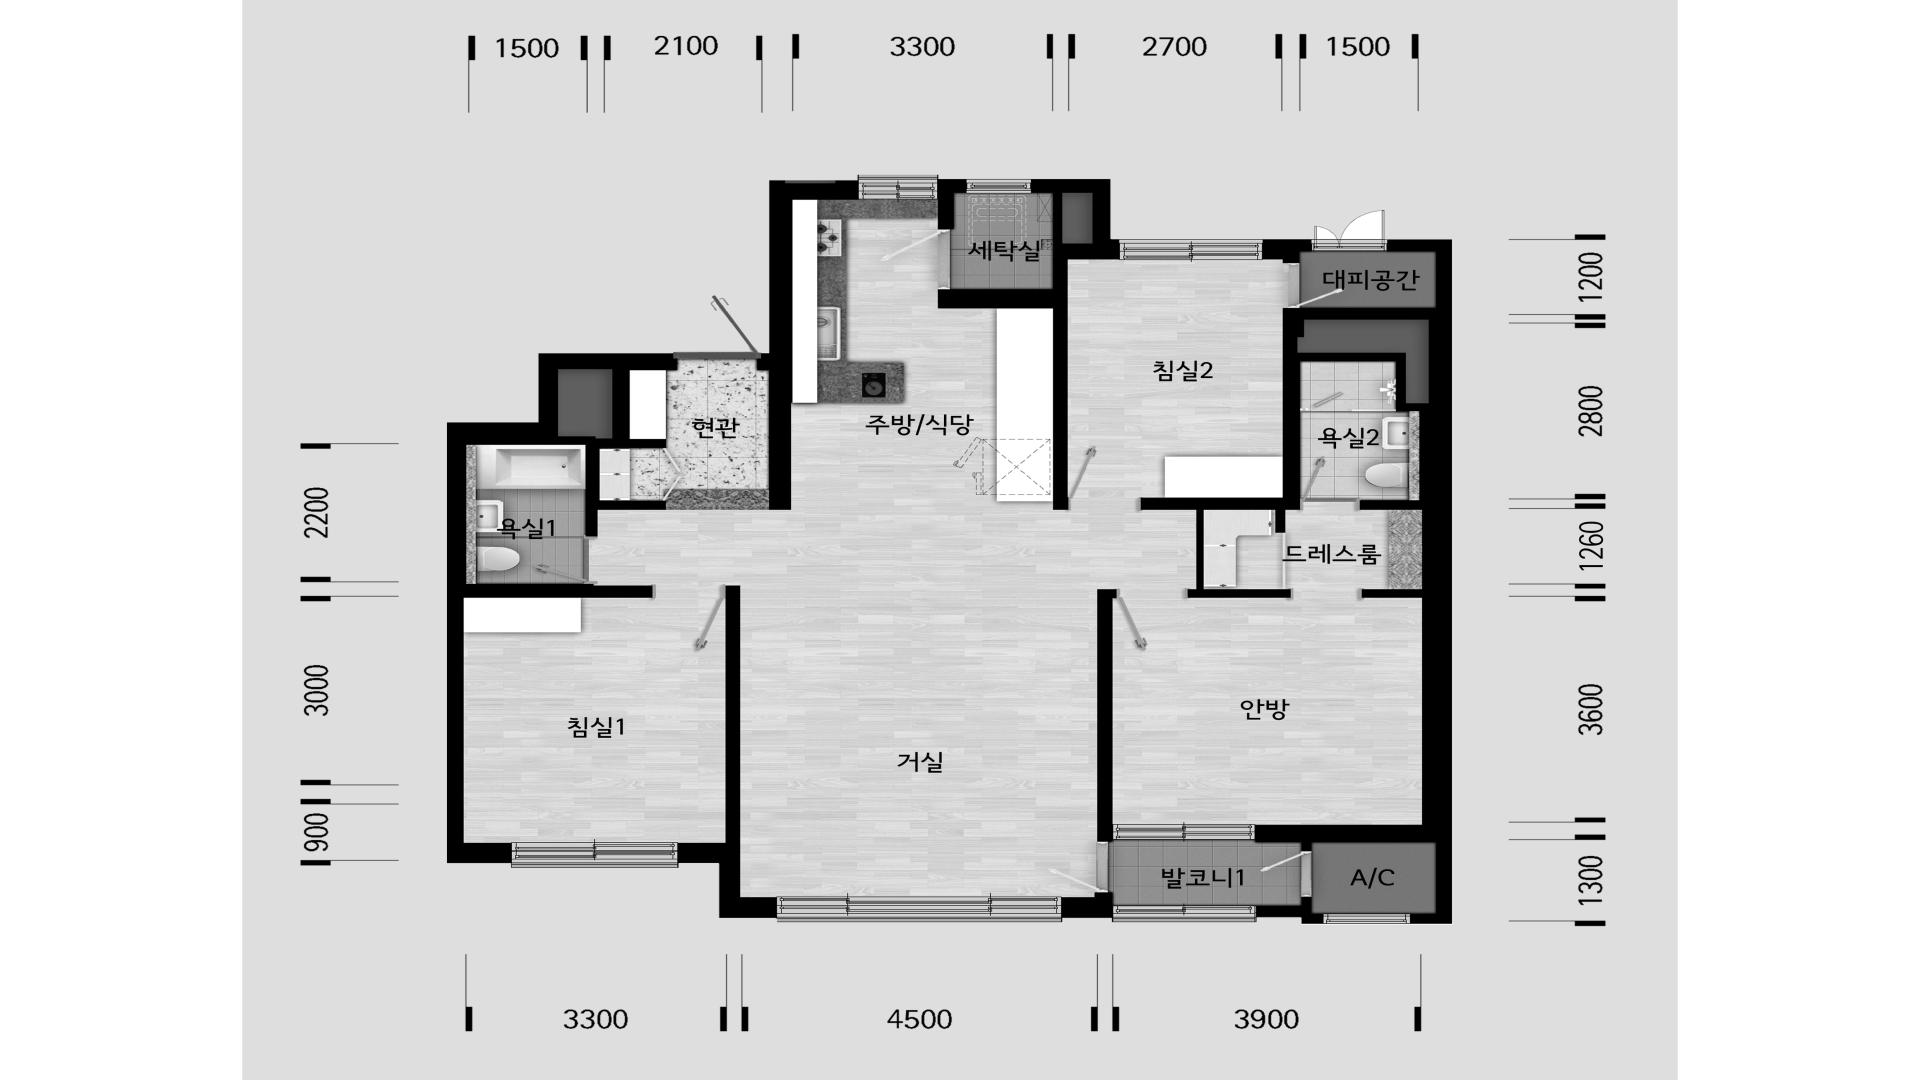door: (676, 286, 764, 369), (653, 584, 725, 653), (1114, 588, 1188, 650), (877, 231, 955, 289), (1068, 447, 1141, 509), (1050, 841, 1114, 893), (530, 537, 599, 584), (1300, 456, 1360, 510), (1255, 851, 1313, 897), (1284, 264, 1344, 309)
wall: (447, 353, 675, 864), (1139, 307, 1428, 599), (936, 193, 1093, 508), (1389, 239, 1453, 924), (760, 179, 858, 510), (559, 371, 667, 537), (680, 843, 778, 918), (1030, 178, 1120, 260), (1255, 824, 1424, 851), (1097, 588, 1114, 841), (725, 585, 741, 843), (467, 584, 654, 599), (1255, 906, 1323, 924), (1062, 897, 1114, 919), (1262, 240, 1312, 260), (938, 193, 955, 231), (1361, 500, 1422, 510), (1362, 589, 1422, 599), (938, 179, 967, 193), (1300, 897, 1312, 906), (1093, 893, 1113, 897), (1282, 260, 1300, 264)
window: (778, 897, 1062, 922), (510, 841, 680, 868), (1312, 208, 1389, 252), (1118, 239, 1262, 260), (1114, 823, 1257, 841), (1114, 903, 1257, 922), (857, 175, 939, 199), (1324, 913, 1411, 924), (967, 179, 1030, 193)
